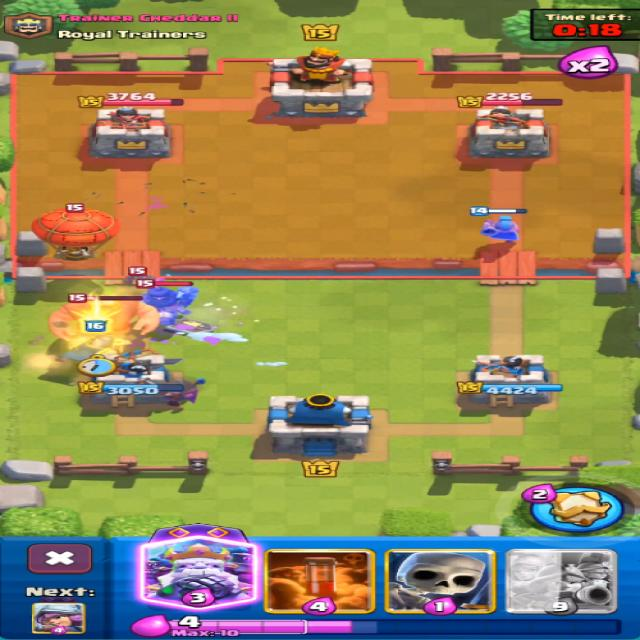Enemy-Balloon: (32, 203, 118, 261)
Enemy-Bat: (125, 266, 152, 284)
Enemy-DarkPrince: (143, 286, 198, 326)
Enemy-Giant: (50, 301, 157, 340)
Enemy-KingTower: (270, 47, 372, 118)
Enemy-PrincessTower: (468, 107, 549, 157), (90, 106, 169, 157)
